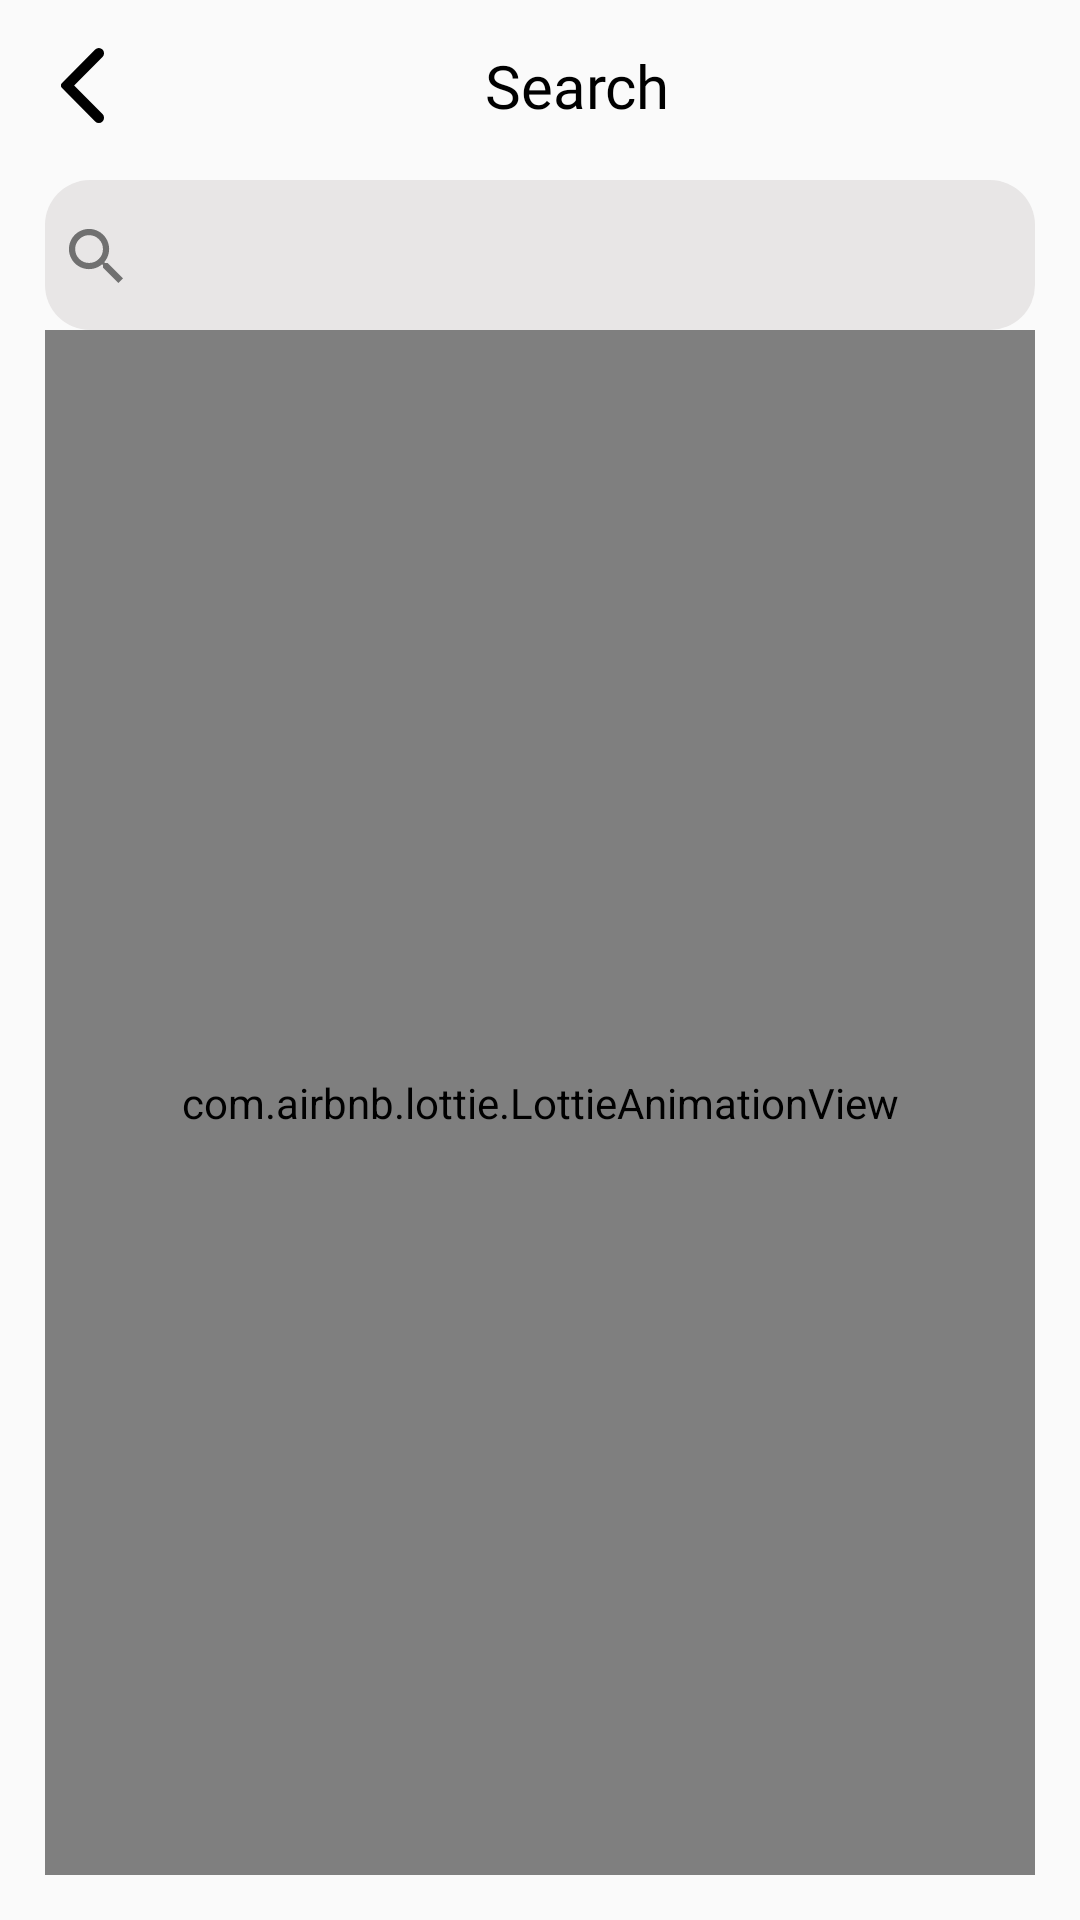

Screen size 1080x1920. Icon name, then its center in pixels as (x,y):
back: (82,85)
search: (96,256)
